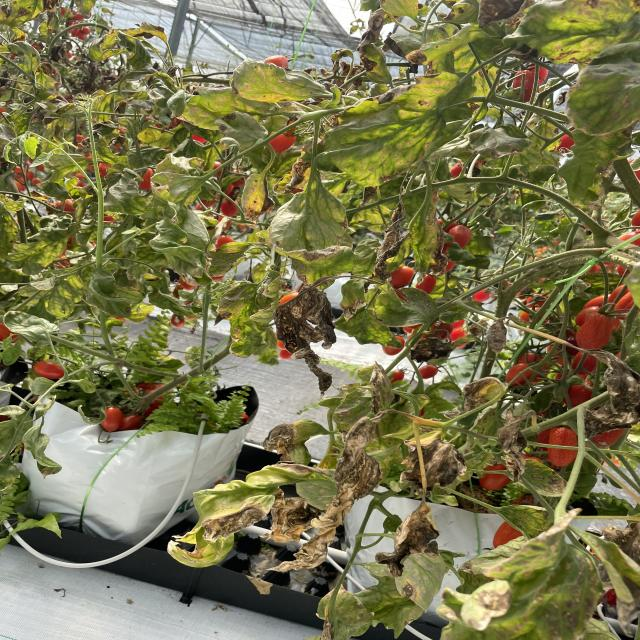Obstacle: (1, 422, 203, 570)
Soilbag: (340, 478, 622, 620), (29, 374, 252, 536)
plant: (362, 111, 614, 469), (14, 37, 259, 364)
